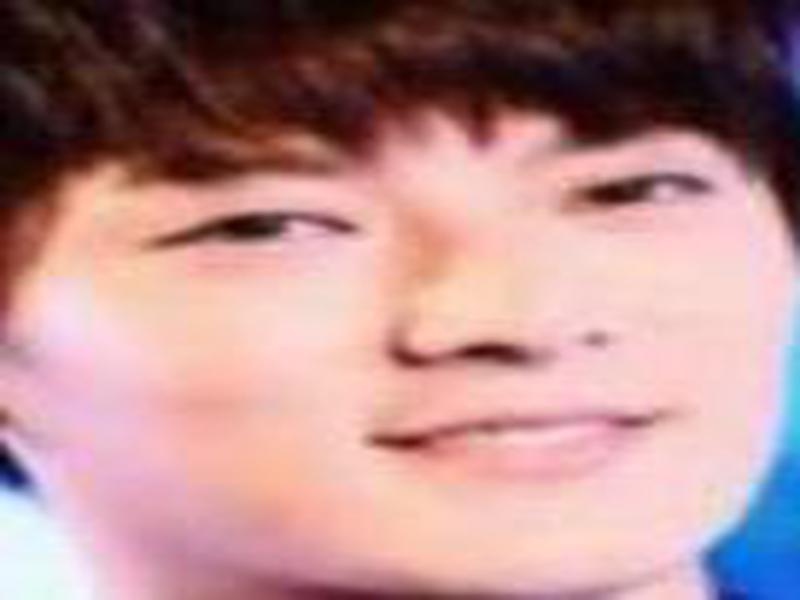without_mask: (34, 76, 793, 593)
